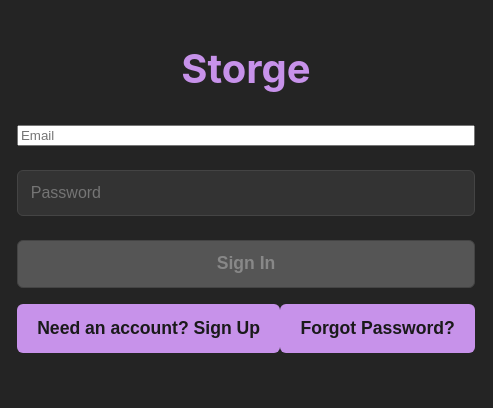
Test: LoginPage Component › shows error message on sign-in failure
In the field with placeholder "Email": (246, 136) [17,125,475,146], type "test@example.com"
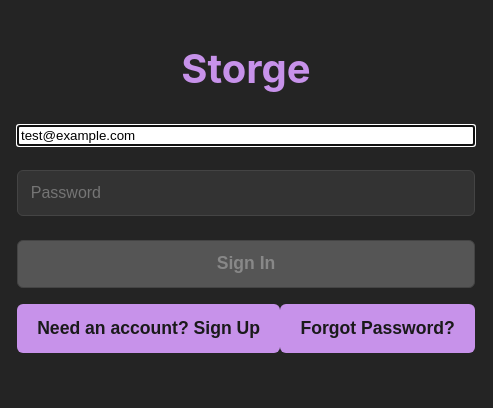
In the password field with placeholder "Password": (246, 193) [17,170,475,216], type "wrongpassword"
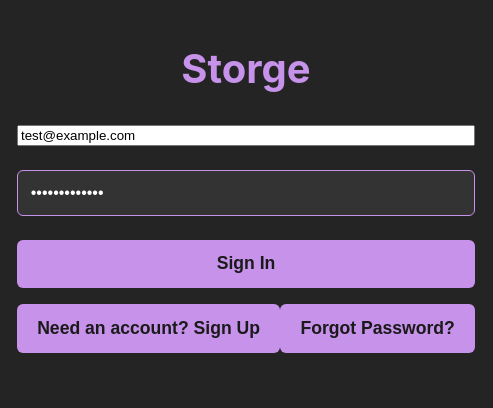
Click the button "Sign In": click(246, 264) [17,240,475,288]
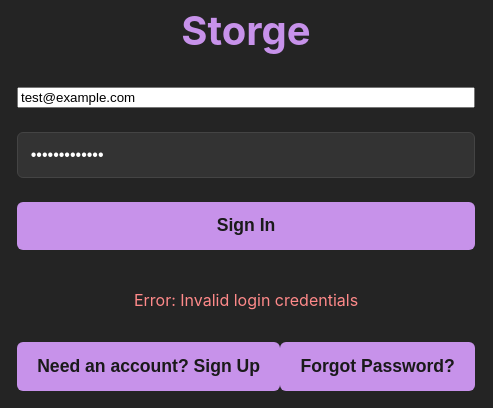
Check: the text "Error: Invalid login credentials" is shown, box [134,290,358,310]
